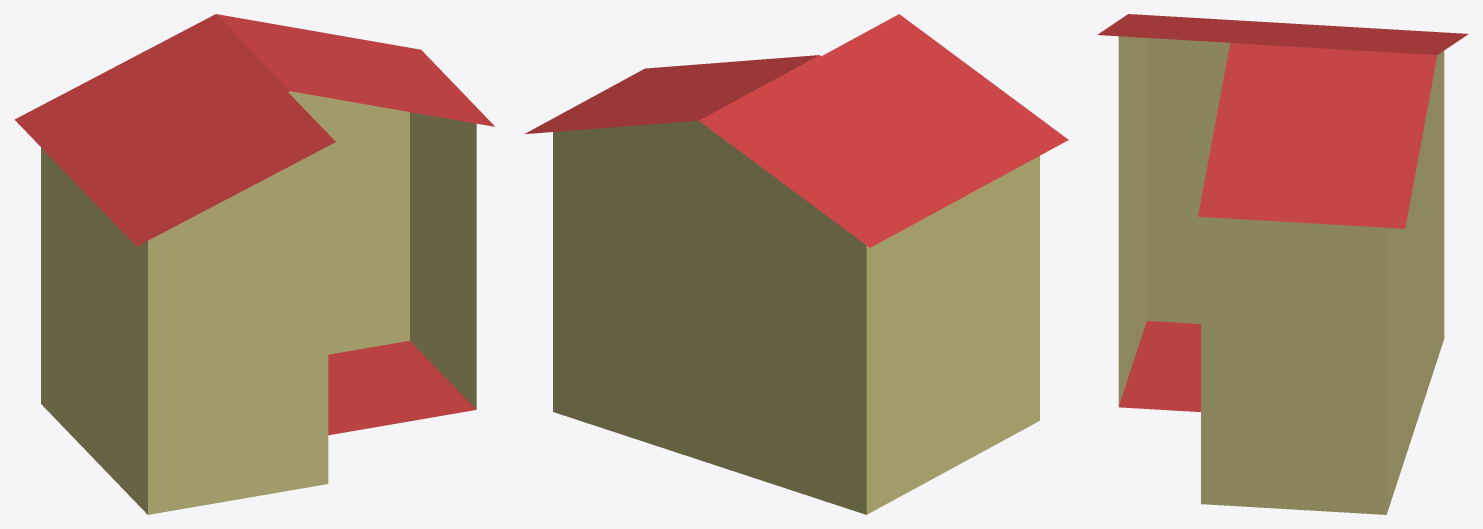
3 views of the same model, side by side, from view 1: azimuth 30°, elevation 25°; view 2: azimuth 150°, elevation 25°; view 3: azimuth 270°, elevation 25° (orthographic). The views are drawn at different scales.
Parts seen in each view (by area): view 1: group_5, group_3, group_6, group_4; view 2: group_5, group_3, group_4; view 3: group_5, group_3, group_6, group_4.
Part boxes in pixels (x1,y1,x2,y2): group_5: (41, 91, 476, 514); group_3: (14, 14, 494, 246); group_6: (328, 340, 475, 435); group_4: (15, 34, 492, 217); group_5: (553, 120, 1039, 514); group_3: (524, 14, 1068, 247); group_4: (529, 15, 1045, 244); group_5: (1118, 36, 1444, 514); group_3: (1097, 14, 1468, 228); group_6: (1119, 321, 1200, 411); group_4: (1099, 19, 1465, 228).
Size of the model in its own units: 11.67 by 8.54 by 9.42.
